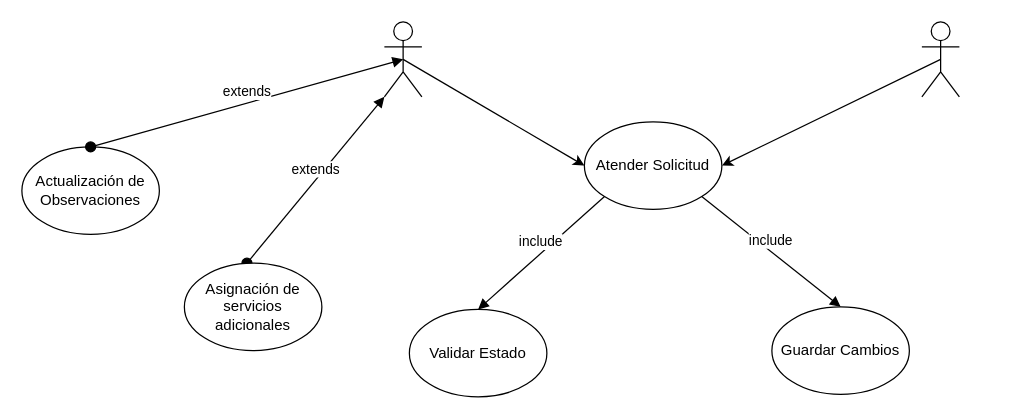
This 1009x419 diagram has some shape labels left out. The centre of each missing label's shape, as x and y in pixels:
"Medico" goes at [402,59].
"Recepcionista" goes at [940,59].
